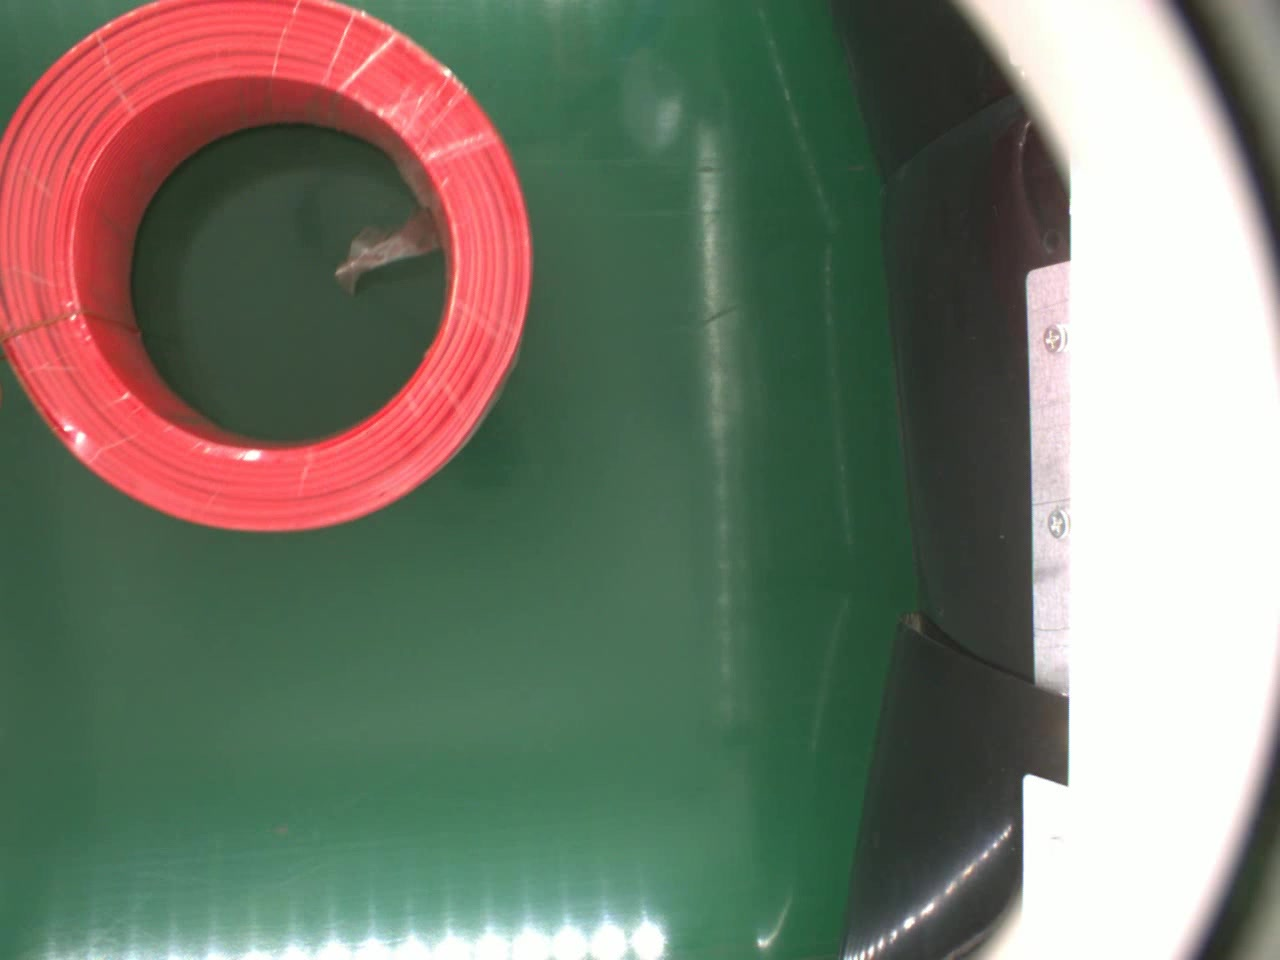red: (0, 0, 538, 541)
